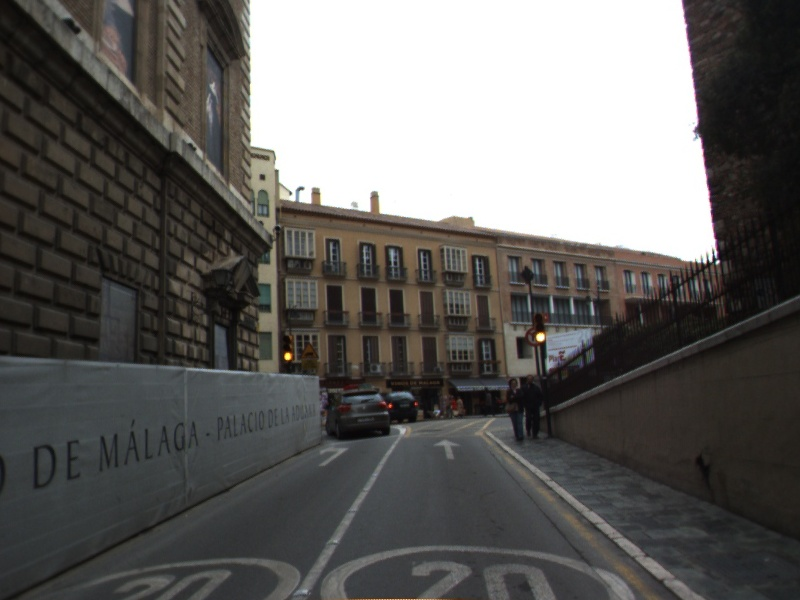LEFT: (316, 444, 351, 468)
STRAIGHT: (431, 437, 464, 461)
